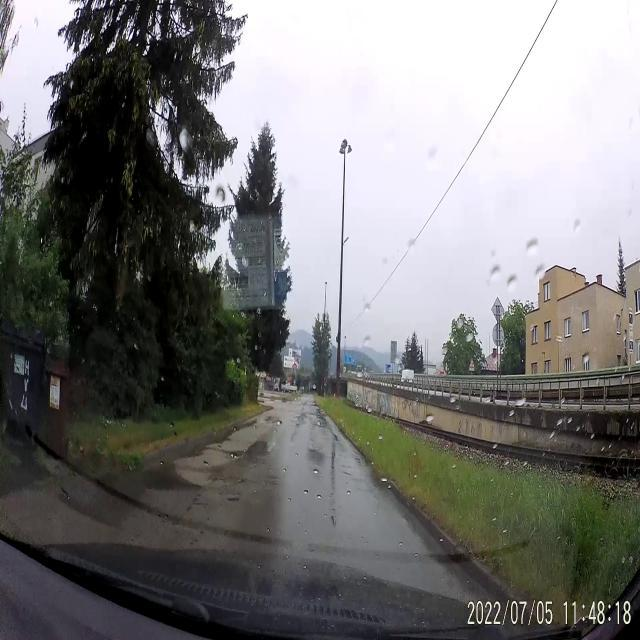Pothole: (224, 486, 241, 506), (294, 410, 308, 428), (353, 452, 365, 472), (340, 463, 355, 478), (313, 416, 328, 428), (264, 414, 278, 426)
